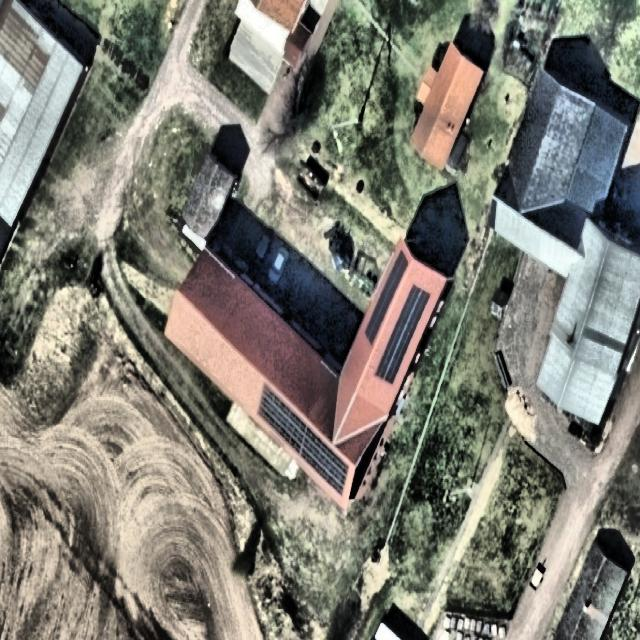roof_pv: (376, 283, 429, 387), (364, 252, 412, 352), (256, 381, 308, 455), (303, 421, 350, 502)
